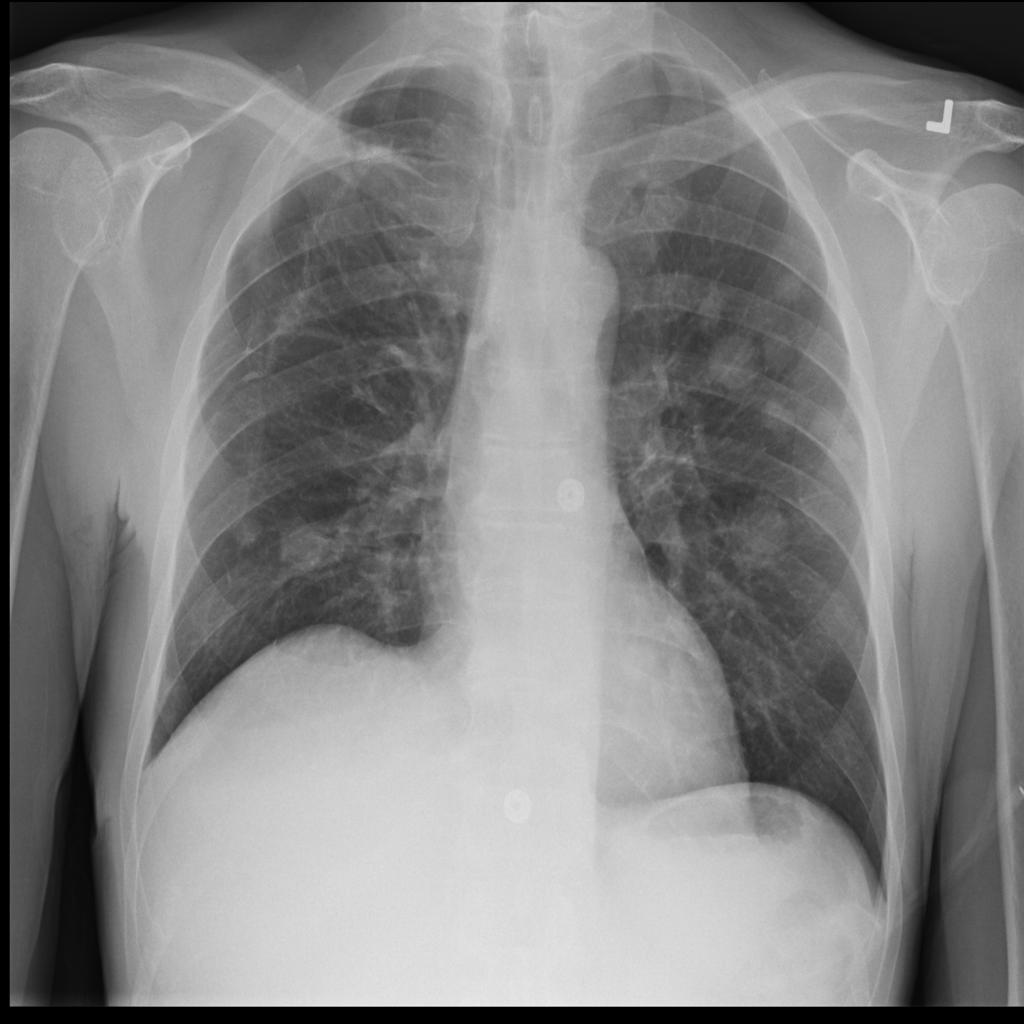nodule: (723, 487, 797, 573), (271, 504, 348, 583), (699, 321, 767, 400), (210, 489, 278, 565), (808, 397, 870, 475), (606, 622, 669, 698), (758, 246, 823, 319), (745, 381, 806, 451)
